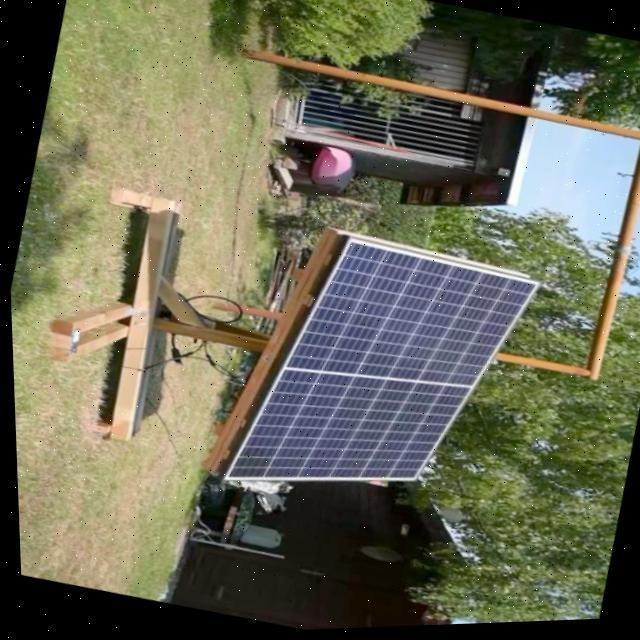Normal Solar Panel: (212, 216, 544, 538)
